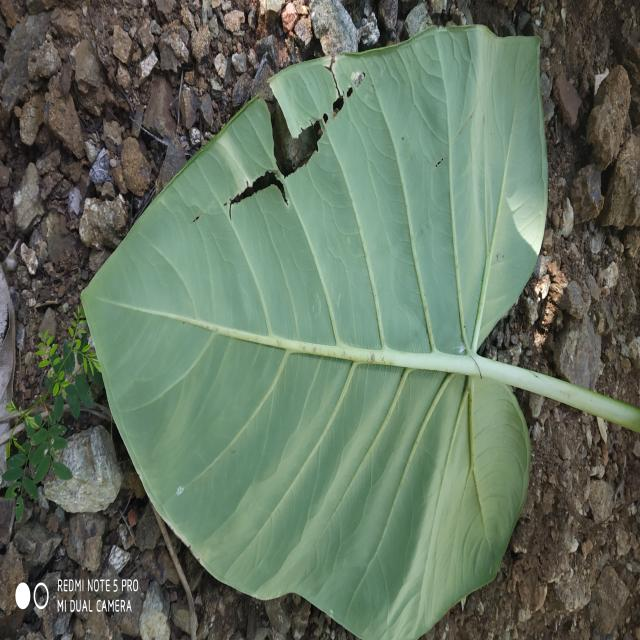defectedtaro: (179, 60, 374, 259)
taro: (82, 27, 546, 638)
